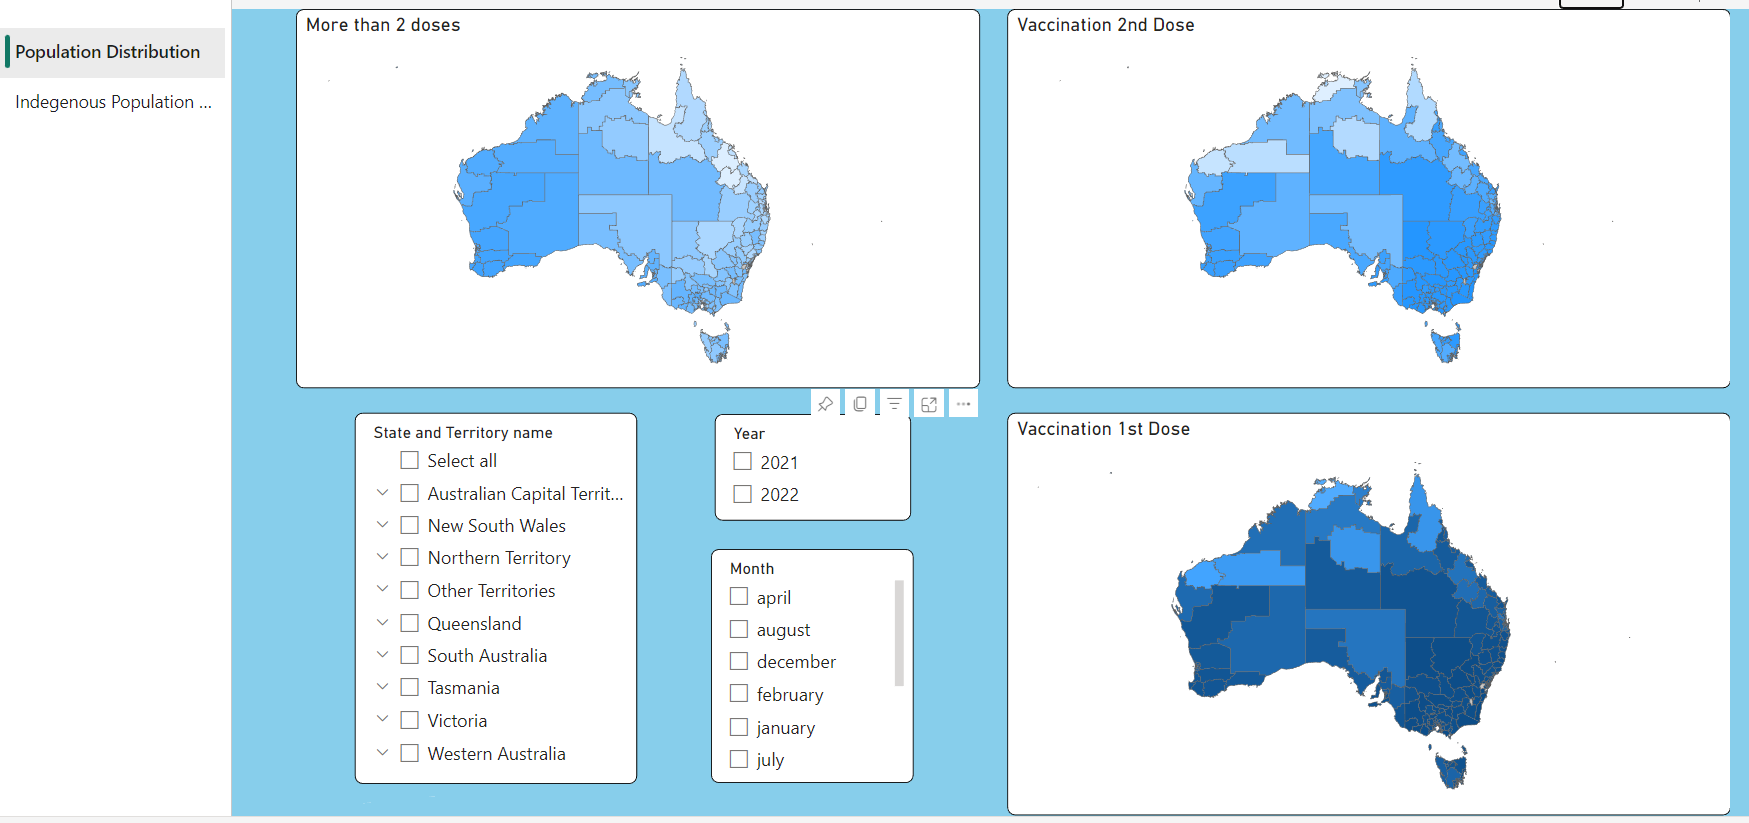

Layout of this report page (visuals, bound fields, positions):
{"tool":"powerbi","page":{"name":"Population Distribution","canvas":[1280,720],"ordinal":0},"visuals":[{"type":"shapeMap","title":"Vaccination 1st Dose","fields":{"Value":["Sum(covid_data.% Vaccinated - Dose 1)"],"Category":["covid_data.SA3 2016 Name of Residence"]},"box":[634.1,360.4,645.6,359.6],"z":0},{"type":"slicer","fields":{"Values":["covid_data.State and Territory Name of Residence Hierarchy.State and Territory Name of Residence","covid_data.State and Territory Name of Residence Hierarchy.SA3 2016 Name of Residence"]},"box":[52.8,359.8,252.2,331.3],"z":1000},{"type":"slicer","fields":{"Values":["covid_data.Year"]},"box":[373.6,360.9,175.2,95],"z":2000},{"type":"slicer","fields":{"Values":["covid_data.Month"]},"box":[370.4,482.2,180.4,208.9],"z":3000},{"type":"shapeMap","title":"Vaccination 2nd Dose","fields":{"Value":["Sum(covid_data.% Vaccinated - Dose 2)"],"Category":["covid_data.SA3 2016 Name of Residence"]},"box":[634.1,0,645.6,338.3],"z":4000},{"type":"shapeMap","title":"More than 2 doses","fields":{"Value":["Sum(covid_data.% Vaccinated - More than 2 doses)"],"Category":["covid_data.SA3 2016 Name of Residence"]},"box":[0,0,610.2,338.3],"z":5000}]}

Visuals, with their boxes on the page's 1280x720 design canvas (x1, y1, x2, y2). These are canvas units, not pixel positions in the 1749x823 screenshot, which may show the page scaled, cropped or inside an application window:
"Vaccination 1st Dose" shapeMap: [634,360,1280,720]
slicer - covid_data.State and Territory Name of Residence Hierarchy.State and Territory Name of Residence x covid_data.State and Territory Name of Residence Hierarchy.SA3 2016 Name of Residence: [53,360,305,691]
slicer - covid_data.Year: [374,361,549,456]
slicer - covid_data.Month: [370,482,551,691]
"Vaccination 2nd Dose" shapeMap: [634,0,1280,338]
"More than 2 doses" shapeMap: [0,0,610,338]
